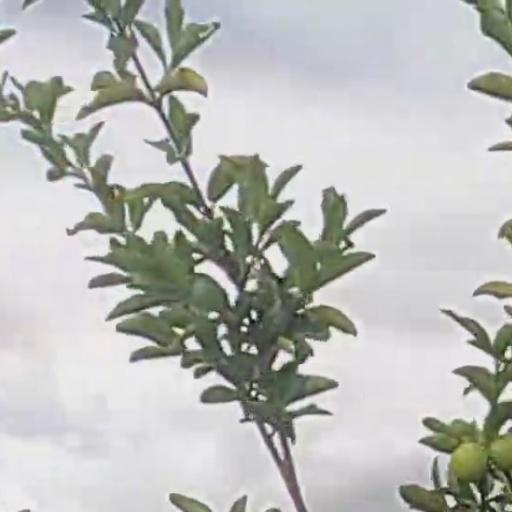acerola: (452, 443, 484, 476), (491, 435, 512, 464)
